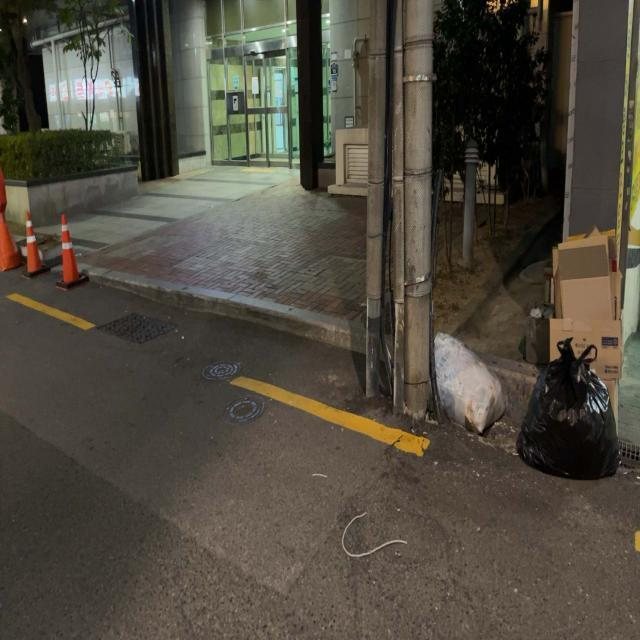Trashbag: (522, 337, 628, 478)
